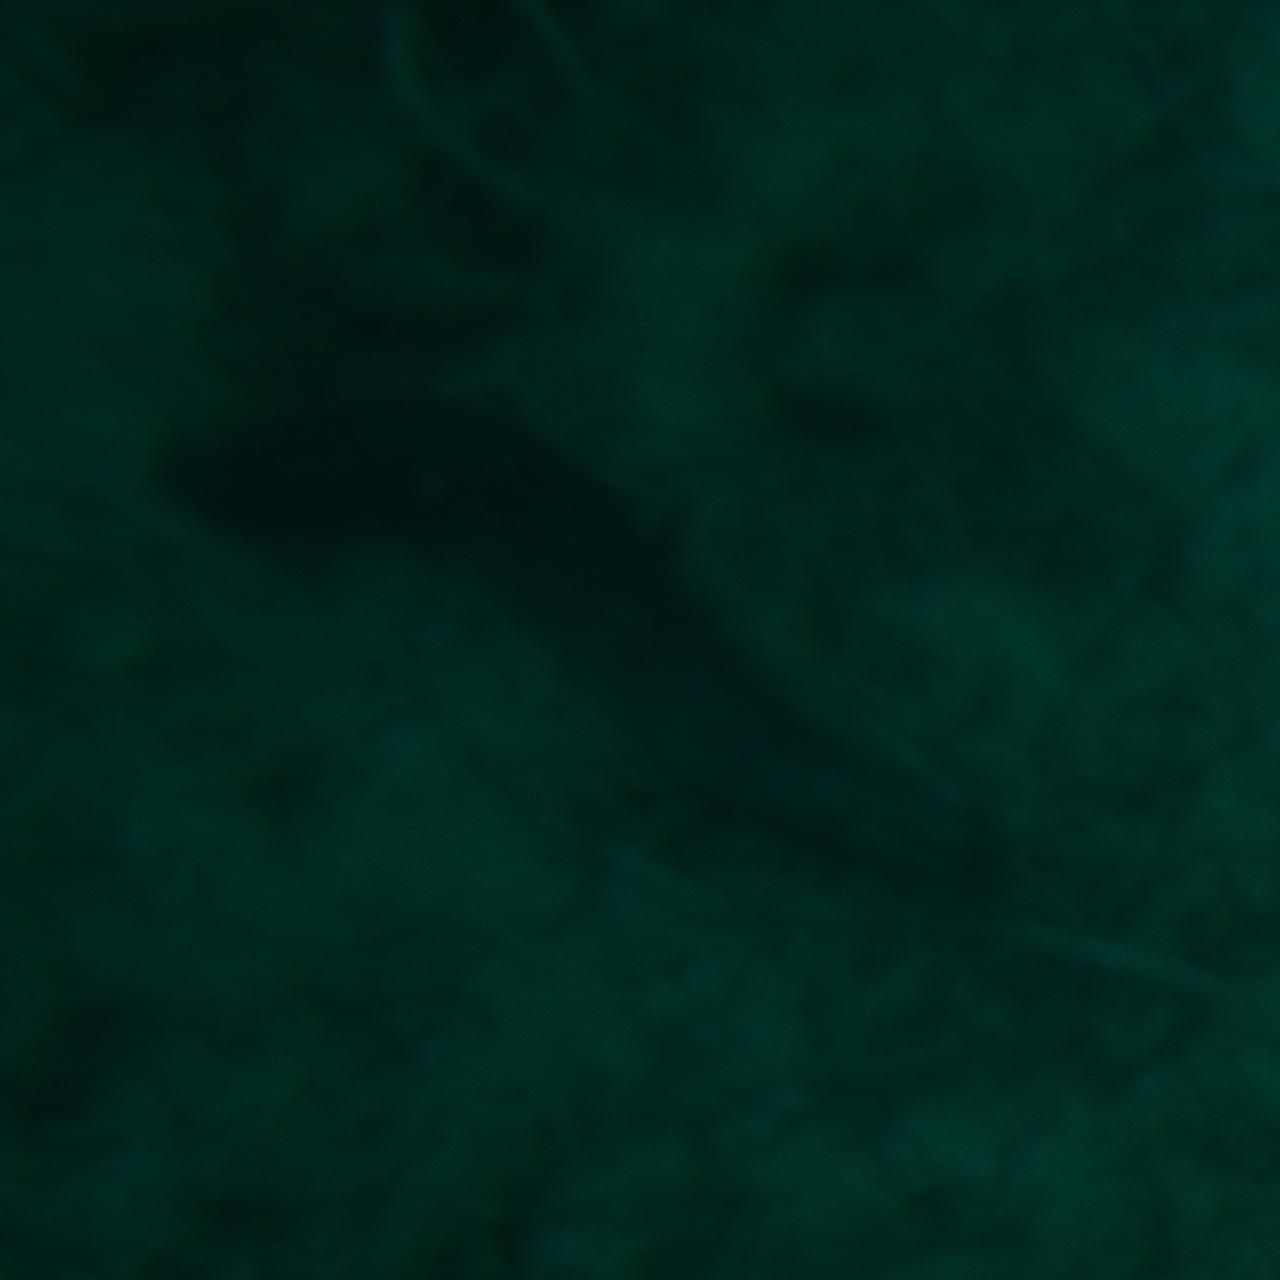Holothuria tubulosa: (156, 394, 996, 886)
